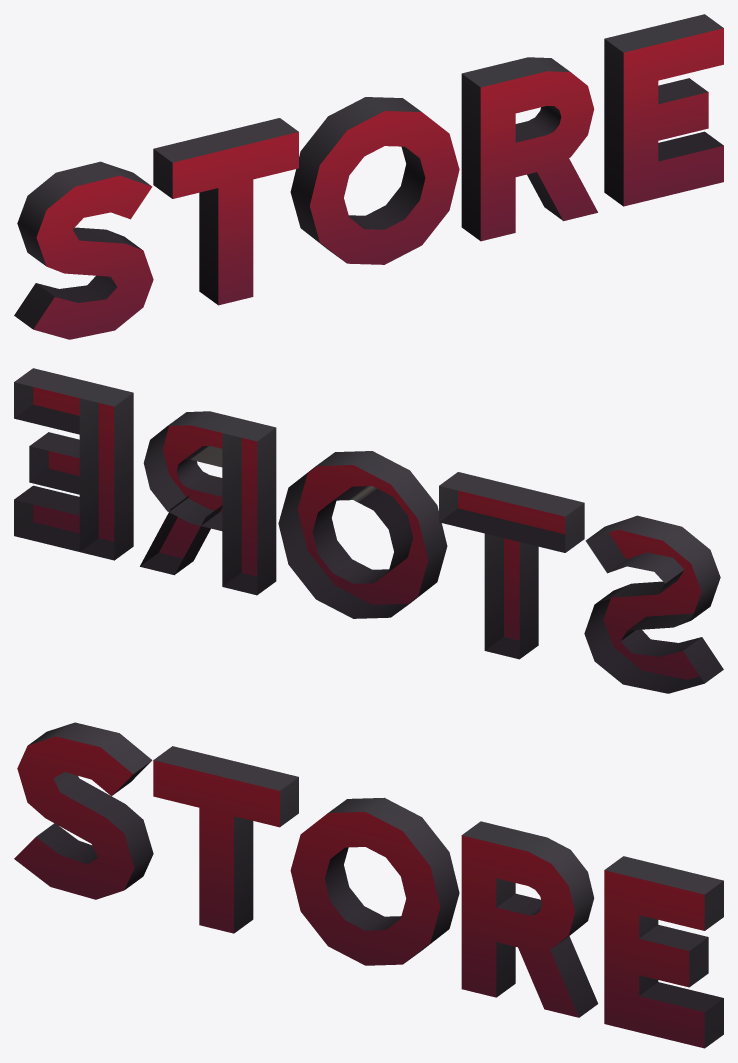
Rendered from Title_5A.fbx.
The picture shows the model from 3 angles, top to bottom: view 1: azimuth 30°, elevation 25°; view 2: azimuth 150°, elevation 25°; view 3: azimuth 330°, elevation 25°; orthographic projection.
Parts seen in each view (by area): view 1: Title_5A; view 2: Title_5A; view 3: Title_5A.
Boxes of the visible parts, x1=… form: Title_5A: x1=14, y1=14, x2=723, y2=339; Title_5A: x1=14, y1=368, x2=723, y2=693; Title_5A: x1=14, y1=722, x2=723, y2=1048.
Size of the model in its own units: 416 by 88.59 by 20.
